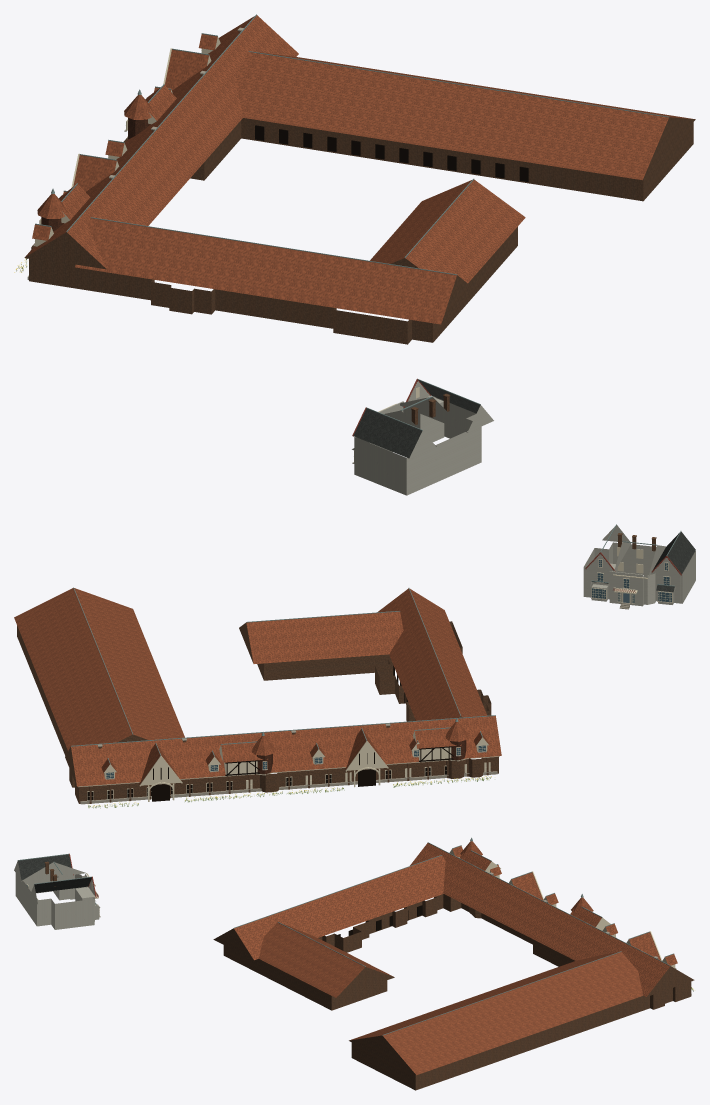
The model's file is historic-houses.glb.
The picture shows the model from 3 angles, top to bottom: view 1: azimuth 30°, elevation 25°; view 2: azimuth 150°, elevation 25°; view 3: azimuth 270°, elevation 25°; orthographic projection. The views are drawn at different scales.
Visible parts, largest first — view 1: Former stable yard Stable terracotta tiles, Former stable yard Stable varied red brown brick, White House House painted clapboard, White House House weathered slate, Former stable yard Weathered gutter and finial, Former stable yard Stable dark oak framing; view 2: Former stable yard Stable terracotta tiles, Former stable yard Stable varied red brown brick, White House House painted clapboard, Former stable yard Warm ivory trim, Former stable yard Stable dark oak framing, Former stable yard Weathered gutter and finial, Former stable yard Aged foundation stone, White House House weathered slate, White House Warm ivory trim, White House Recessed blue grey glazing, Former stable yard Stable turret cedar shingles; view 3: Former stable yard Stable terracotta tiles, Former stable yard Stable varied red brown brick, White House House painted clapboard, Former stable yard Weathered gutter and finial, White House House weathered slate, Former stable yard Warm ivory trim.
Part boxes in pixels (<box>): Former stable yard Stable terracotta tiles: <box>25,15,694,324</box>; Former stable yard Stable varied red brown brick: <box>24,31,695,344</box>; White House House painted clapboard: <box>352,381,493,495</box>; White House House weathered slate: <box>353,380,480,458</box>; Former stable yard Weathered gutter and finial: <box>35,14,669,275</box>; Former stable yard Stable dark oak framing: <box>48,119,528,219</box>; Former stable yard Stable terracotta tiles: <box>14,588,501,786</box>; Former stable yard Stable varied red brown brick: <box>17,621,498,803</box>; White House House painted clapboard: <box>583,525,695,606</box>; Former stable yard Warm ivory trim: <box>78,731,499,801</box>; Former stable yard Stable dark oak framing: <box>87,665,465,801</box>; Former stable yard Weathered gutter and finial: <box>71,587,495,764</box>; Former stable yard Aged foundation stone: <box>80,723,497,804</box>; White House House weathered slate: <box>592,531,695,592</box>; White House Warm ivory trim: <box>591,547,672,603</box>; White House Recessed blue grey glazing: <box>592,559,671,603</box>; Former stable yard Stable turret cedar shingles: <box>256,740,466,774</box>; Former stable yard Stable terracotta tiles: <box>234,841,677,1075</box>; Former stable yard Stable varied red brown brick: <box>213,894,694,1090</box>; White House House painted clapboard: <box>14,861,100,929</box>; Former stable yard Weathered gutter and finial: <box>234,837,673,1035</box>; White House House weathered slate: <box>18,854,91,892</box>; Former stable yard Warm ivory trim: <box>449,849,692,981</box>.
Bounding box in the file's own units: 117 × 12.48 × 154.
Materials: 15 (6 with a texture image).
